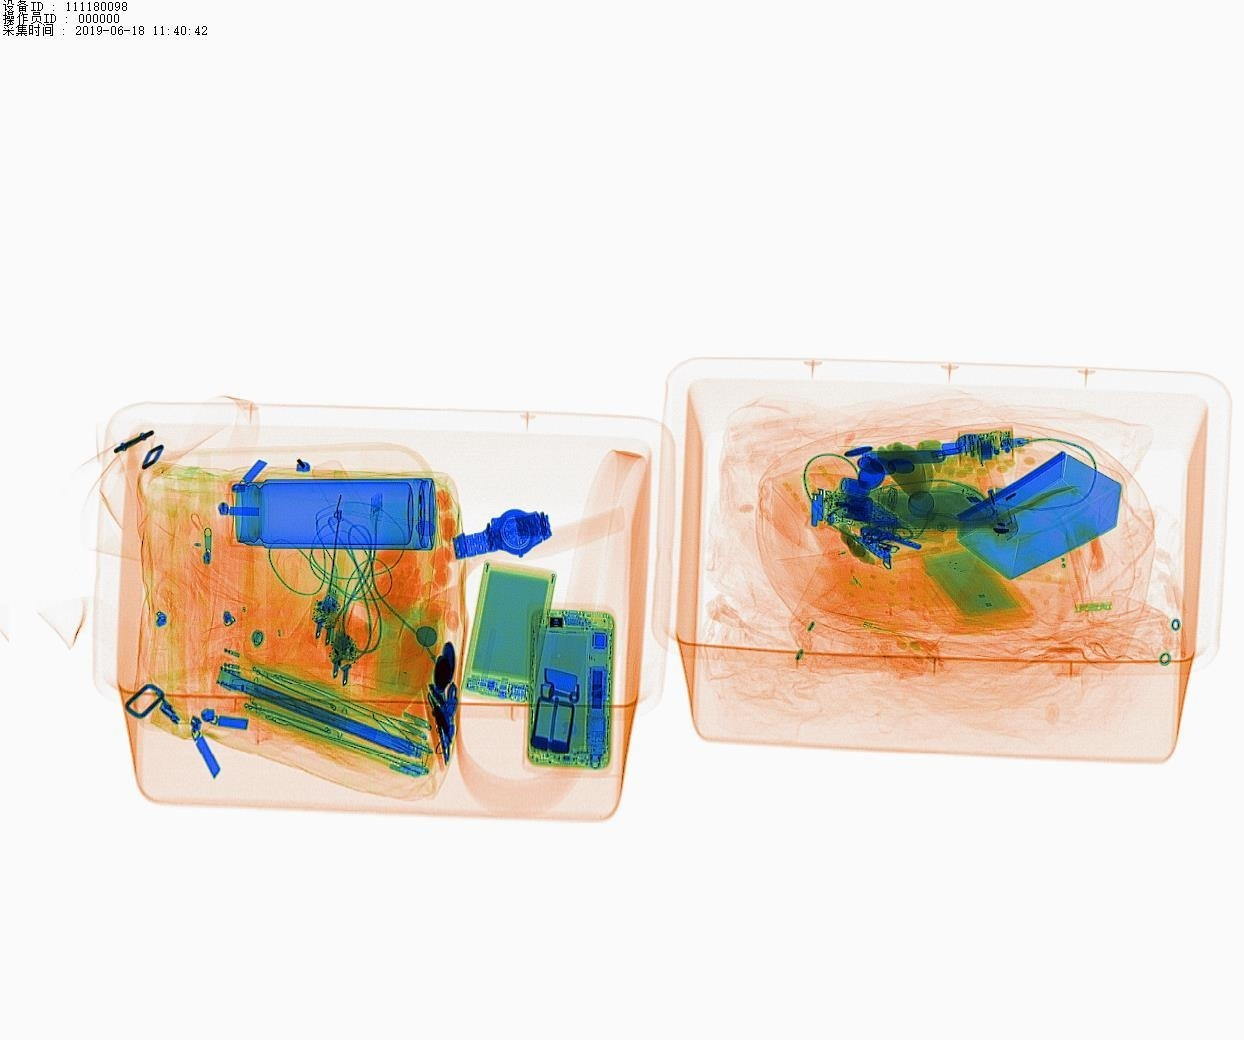NonmetallicFire: (977, 453, 1031, 547)
